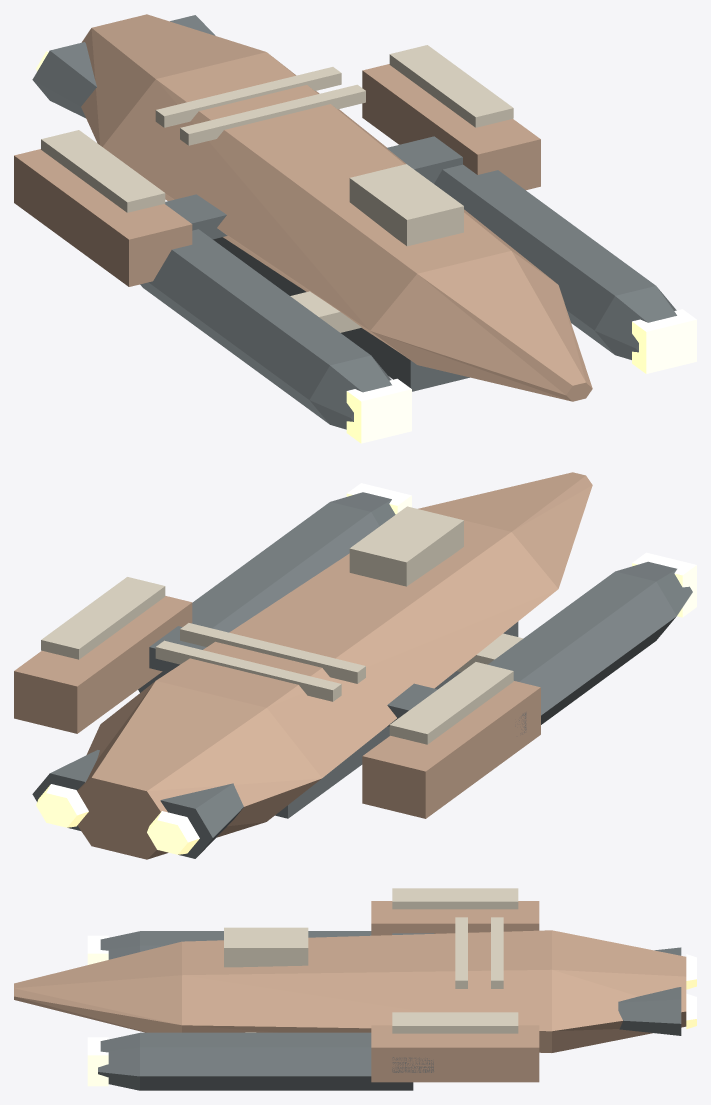
The picture shows the model from 3 angles, top to bottom: view 1: azimuth 30°, elevation 25°; view 2: azimuth 150°, elevation 25°; view 3: azimuth 270°, elevation 25°; orthographic projection. The views are drawn at different scales.
Bounding box in the file's own units: 3.04 × 1.02 × 5.98.
